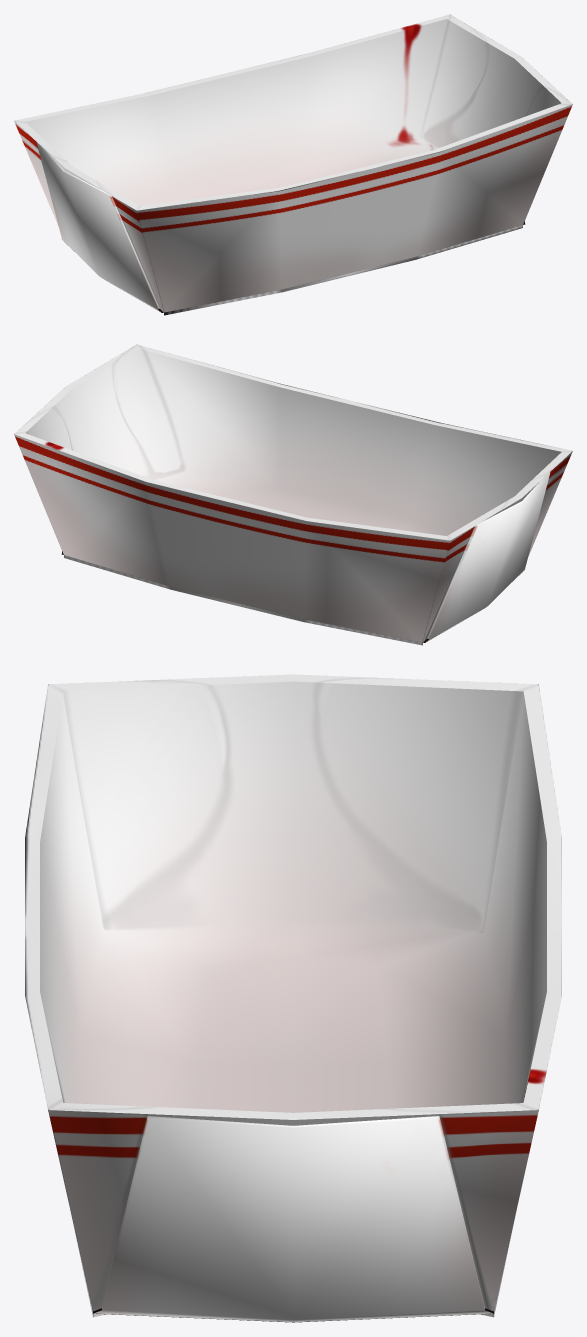
Rendered from FoodContainer.fbx.
The picture shows the model from 3 angles, top to bottom: view 1: azimuth 30°, elevation 25°; view 2: azimuth 150°, elevation 25°; view 3: azimuth 270°, elevation 25°; orthographic projection. The views are drawn at different scales.
Parts seen in each view (by area): view 1: Food container; view 2: Food container; view 3: Food container.
Part boxes in pixels (x1=…): Food container: x1=14, y1=14, x2=572, y2=315; Food container: x1=14, y1=344, x2=572, y2=645; Food container: x1=25, y1=674, x2=561, y2=1322.
Size of the model in its own units: 70 by 17.76 by 35.3.
